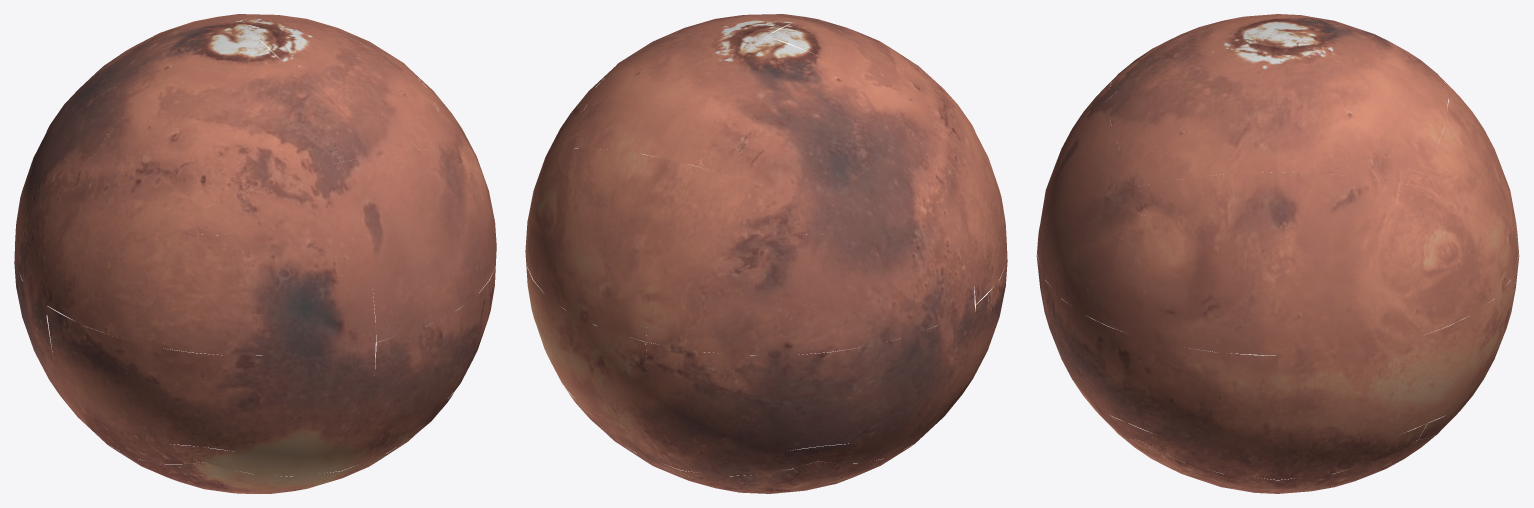
The model's file is Mars_1_6792.glb.
3 renders of one model, left to right at view 1: azimuth 30°, elevation 25°; view 2: azimuth 150°, elevation 25°; view 3: azimuth 270°, elevation 25°, orthographic.
Visible parts, largest first — view 1: Cube.008; view 2: Cube.008; view 3: Cube.008.
Part boxes in pixels (x1=…): Cube.008: x1=14, y1=14, x2=496, y2=493; Cube.008: x1=525, y1=14, x2=1007, y2=493; Cube.008: x1=1036, y1=14, x2=1519, y2=493.
Size of the model in its own units: 1004 by 997 by 1004.
1 material, 1 textured.
